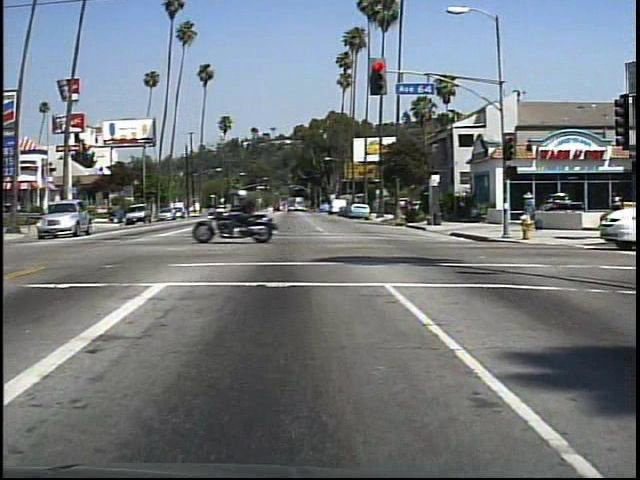person: (235, 185, 271, 241), (517, 186, 543, 217)
